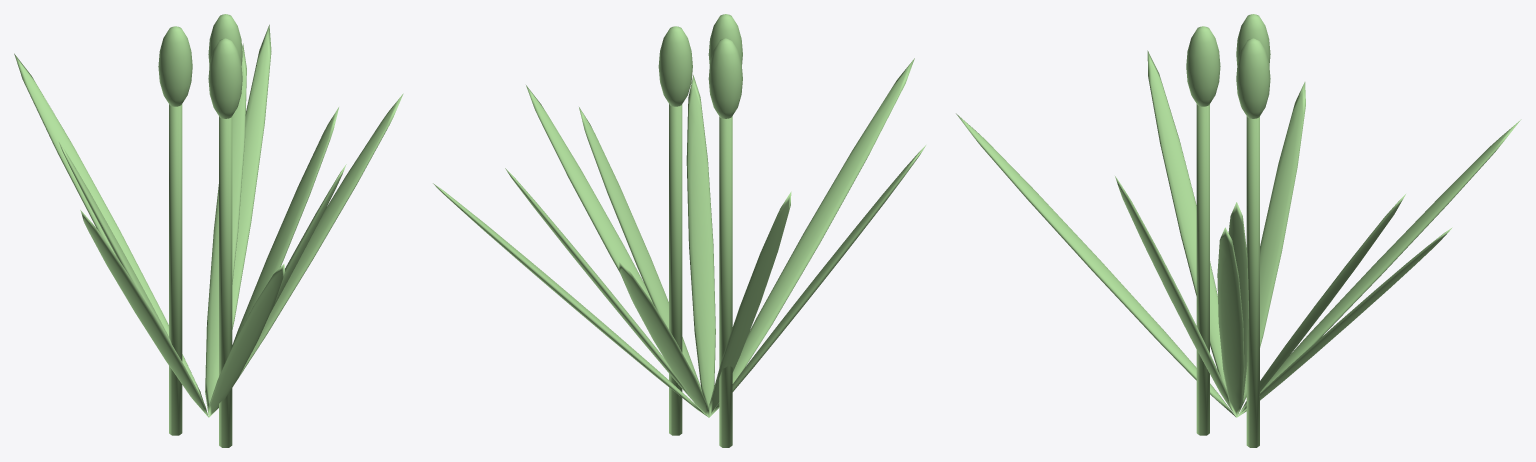
File: VCrop_Rice_4.fbx
3 renders of one model, left to right at view 1: azimuth 30°, elevation 25°; view 2: azimuth 150°, elevation 25°; view 3: azimuth 270°, elevation 25°, orthographic.
Visible parts, largest first — view 1: VCrop_Rice_4; view 2: VCrop_Rice_4; view 3: VCrop_Rice_4.
Part boxes in pixels (bbox=[...]): VCrop_Rice_4: bbox=[14, 14, 403, 447]; VCrop_Rice_4: bbox=[433, 14, 925, 447]; VCrop_Rice_4: bbox=[956, 14, 1521, 447].
Size of the model in its own units: 0.4392 by 0.4714 by 0.5942.
